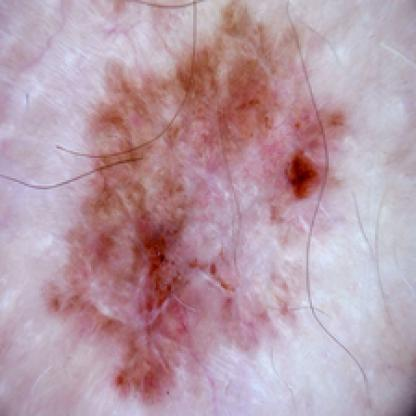Skin_Cancer-Malignant: (42, 4, 346, 409)
